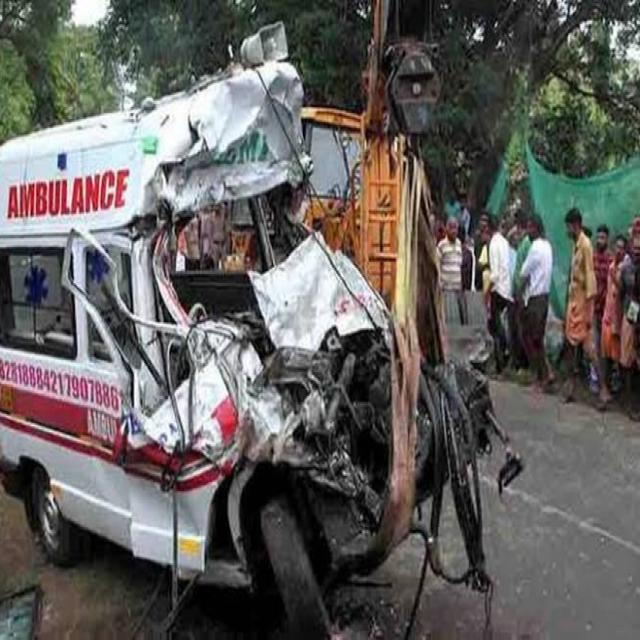accident: (0, 26, 500, 635)
